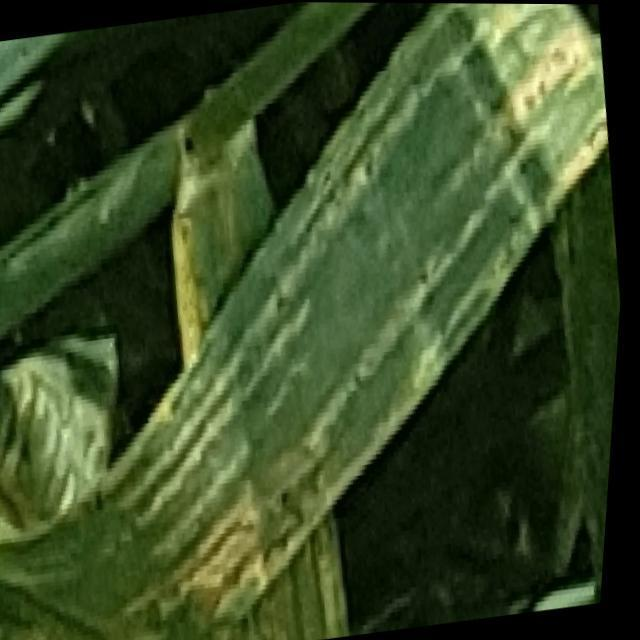Yellow Rust: (3, 2, 610, 636)
